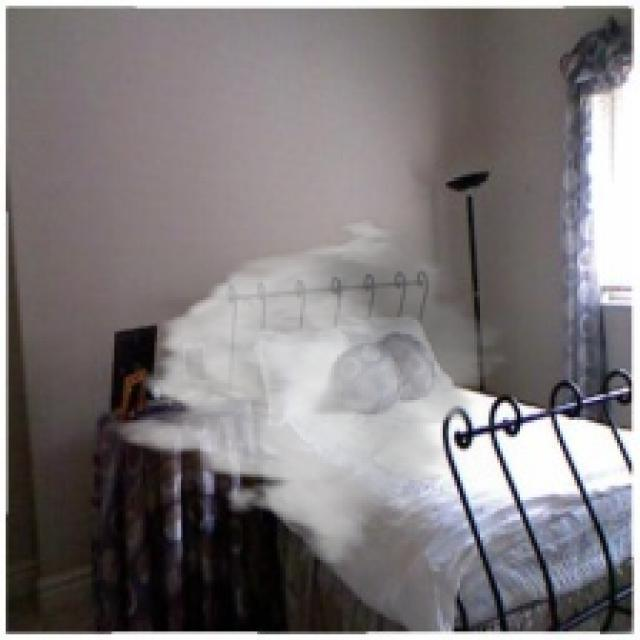Smoke: (117, 214, 517, 566)
